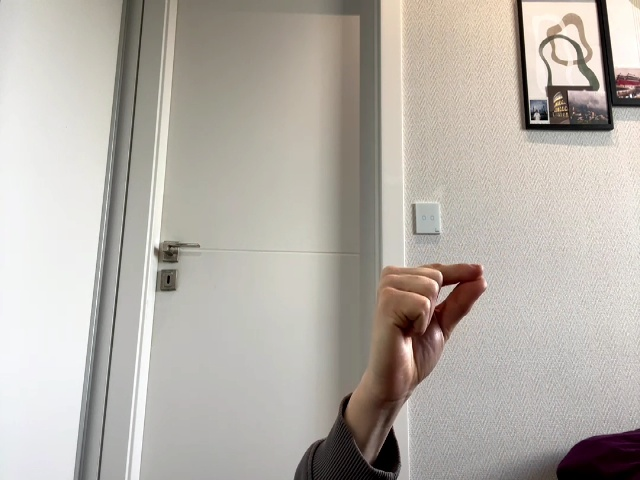P: (372, 264, 487, 407)
